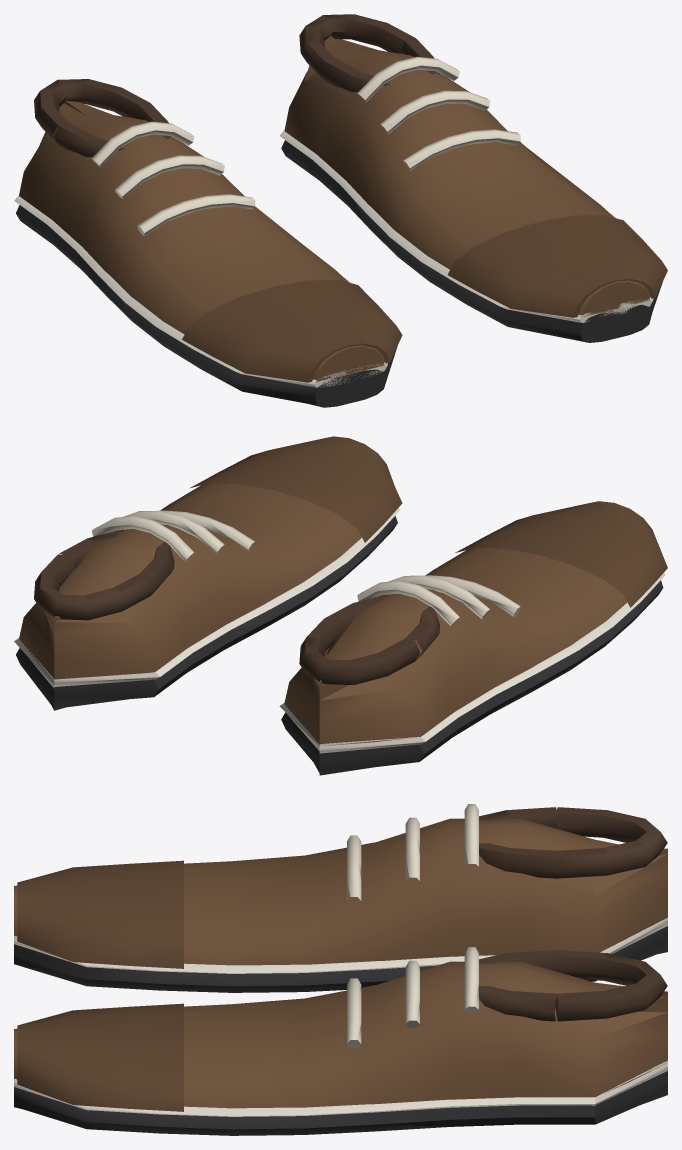
Rendered from shoes.lod1.glb.
3 views of the same model, one above another, from view 1: azimuth 30°, elevation 25°; view 2: azimuth 150°, elevation 25°; view 3: azimuth 270°, elevation 25° (orthographic). The views are drawn at different scales.
Visible parts, largest first — view 1: Shoe_L, Shoe_R; view 2: Shoe_L, Shoe_R; view 3: Shoe_R, Shoe_L.
Boxes of the visible parts, box(x1,y1,x2,y2) form: Shoe_L: box(14, 79, 402, 407); Shoe_R: box(280, 14, 667, 342); Shoe_L: box(279, 501, 667, 775); Shoe_R: box(14, 436, 402, 710); Shoe_R: box(14, 947, 667, 1135); Shoe_L: box(14, 804, 667, 992).
Bounding box in the file's own units: 0.2584 × 0.0682 × 0.29.
